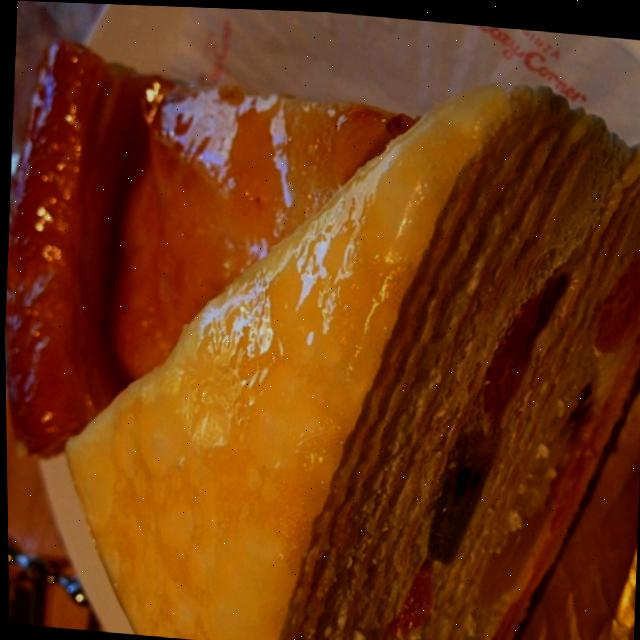蛋糕甜品: (5, 19, 640, 640)
